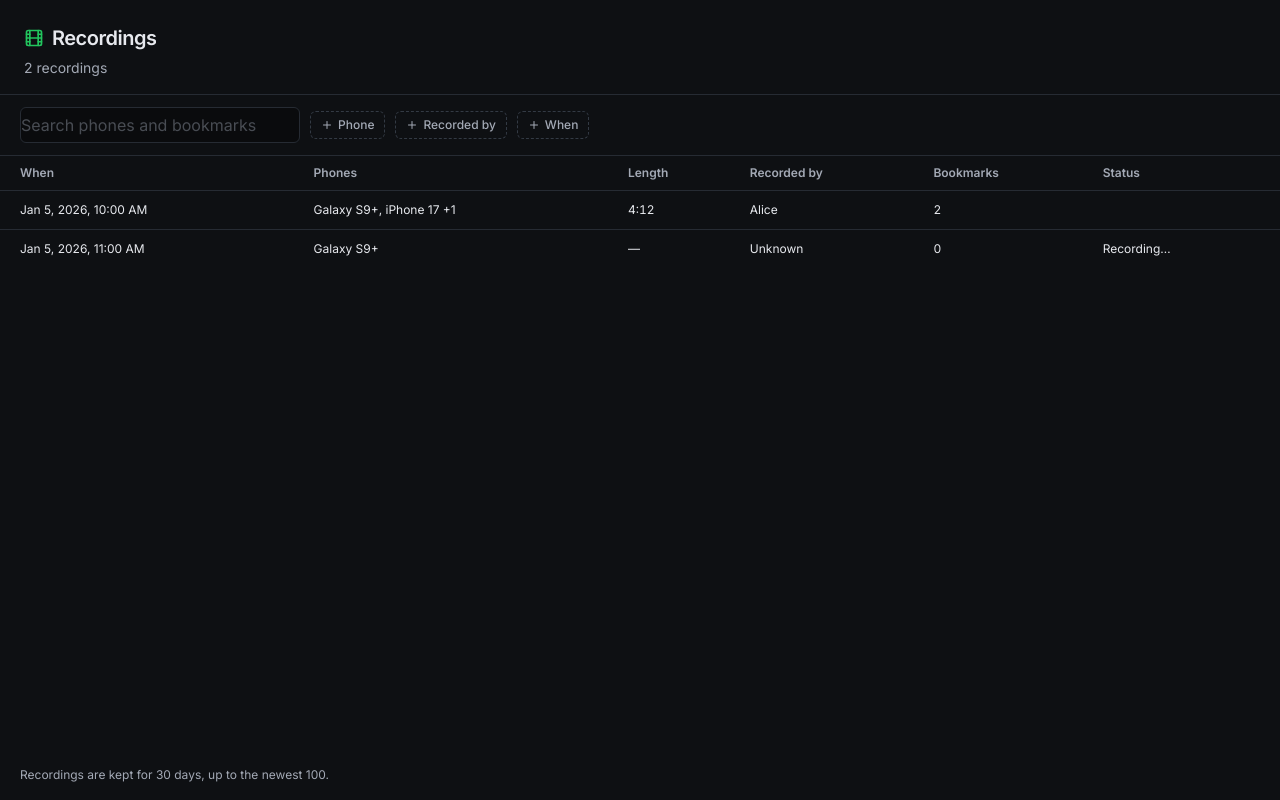
Scenario: RecordingsPage › filters by phone through the FilterMenu, writing the URL and re-querying
Check: the text "Galaxy S9+, iPhone 17 +1" is shown, box [302,191,616,230]
Click the button "Phone" at (348, 125), box [310,111,385,139]
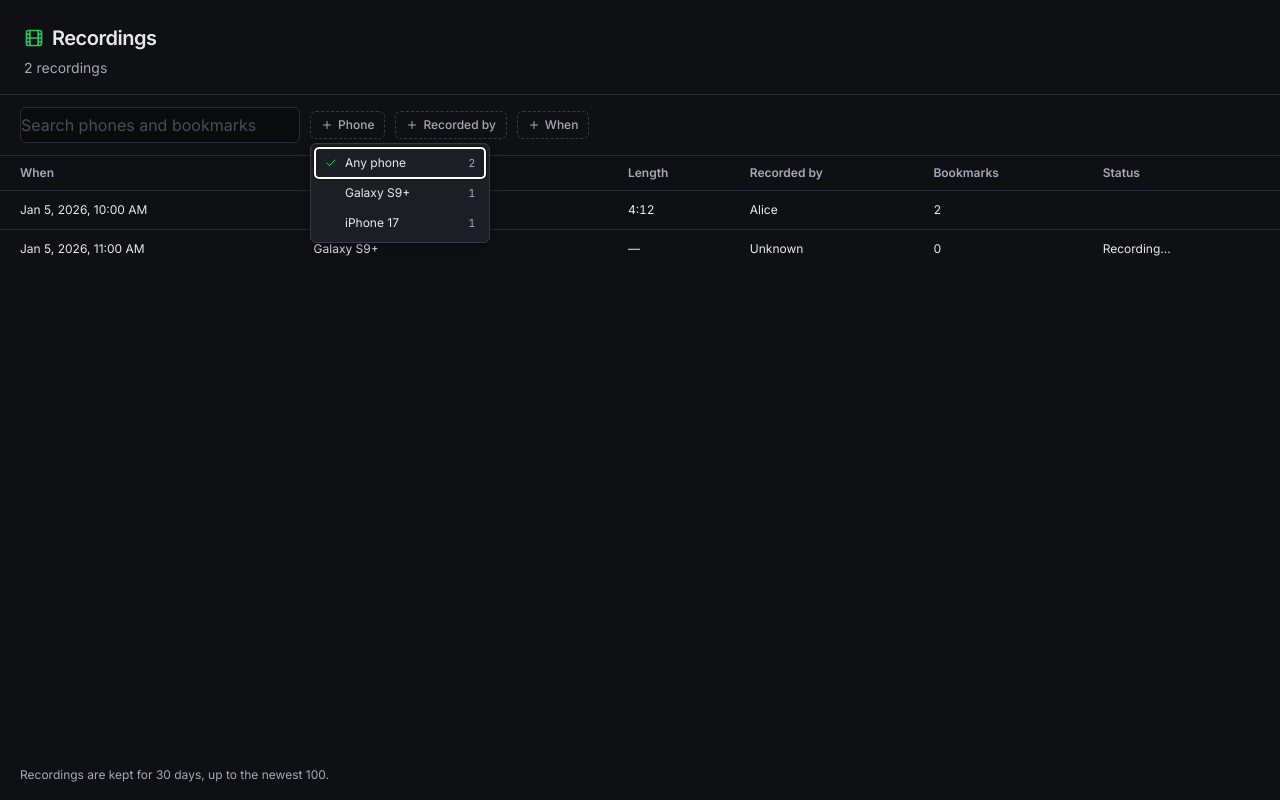
Click the menu item "Galaxy S9+ 1" at (400, 193), box [315,178,485,208]
(page scrolled)
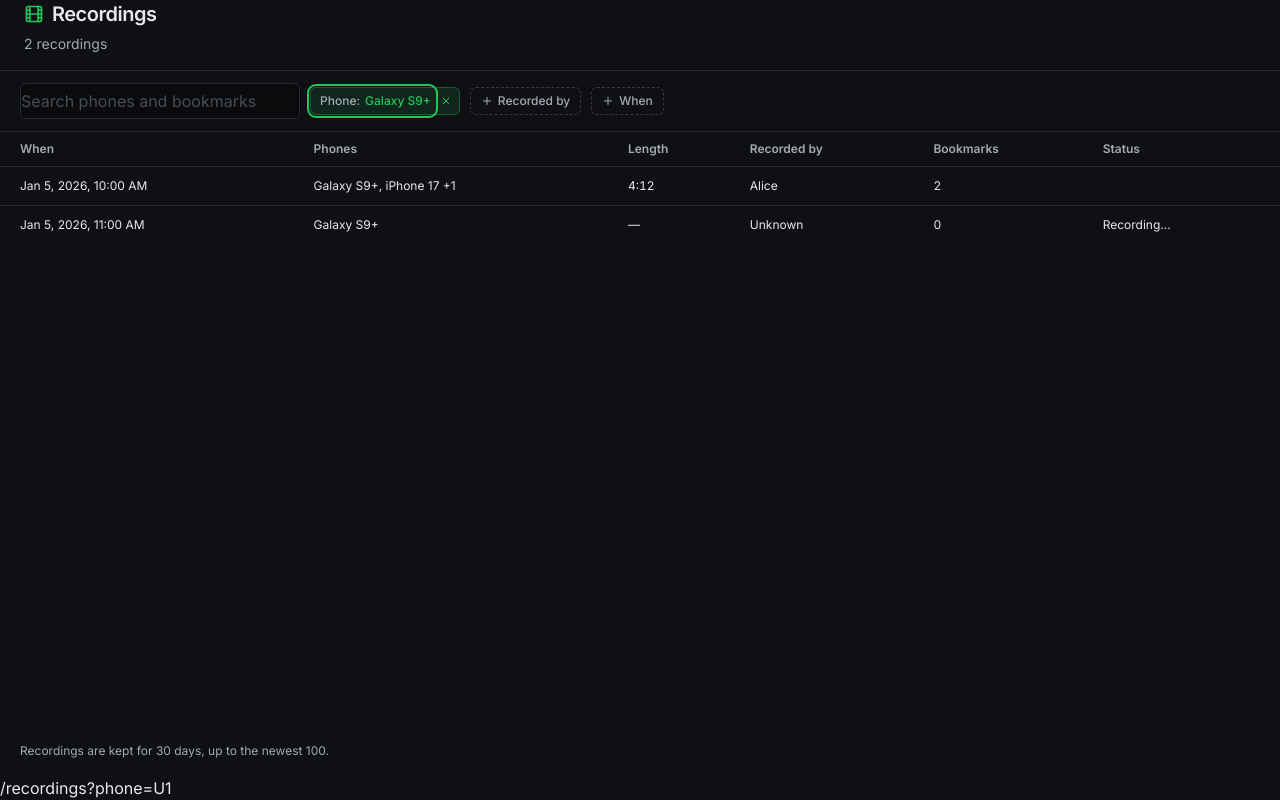
Check: the text with test id "where" reads "/recordings?phone=U1", box [0,778,172,798]
